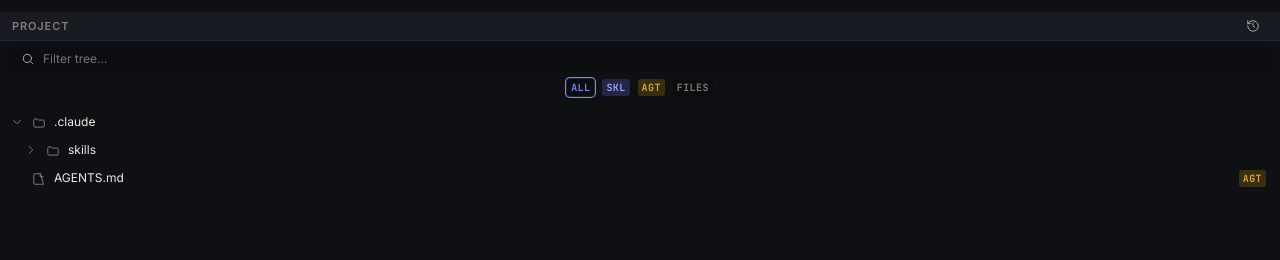
persisted panel state (LIB-FR-14 … LIB-FR-17) › retains a persisted path whose folder is absent, and re-expands on return
The image size is (1280, 260).
Expected: the text "AGENTS.md" is shown, [54,170,124,185]
Expected: the text "specifications" is not shown
Click the text ".claude".
click(75, 122)  # box [54,114,95,129]
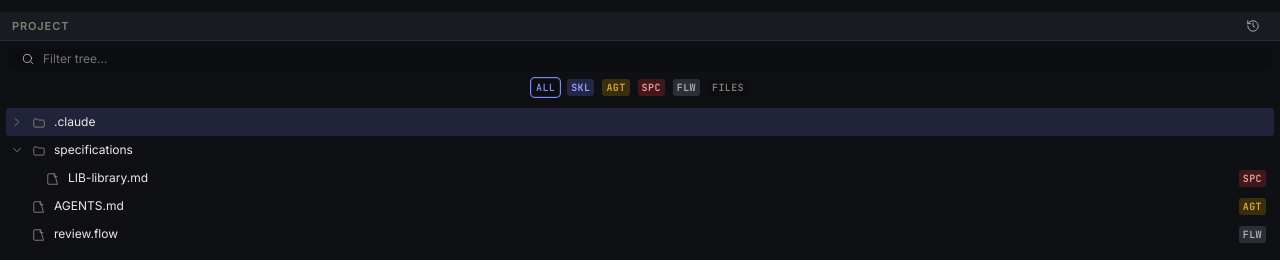
Now the text "LIB-library.md" is shown, box [68,170,148,185]
